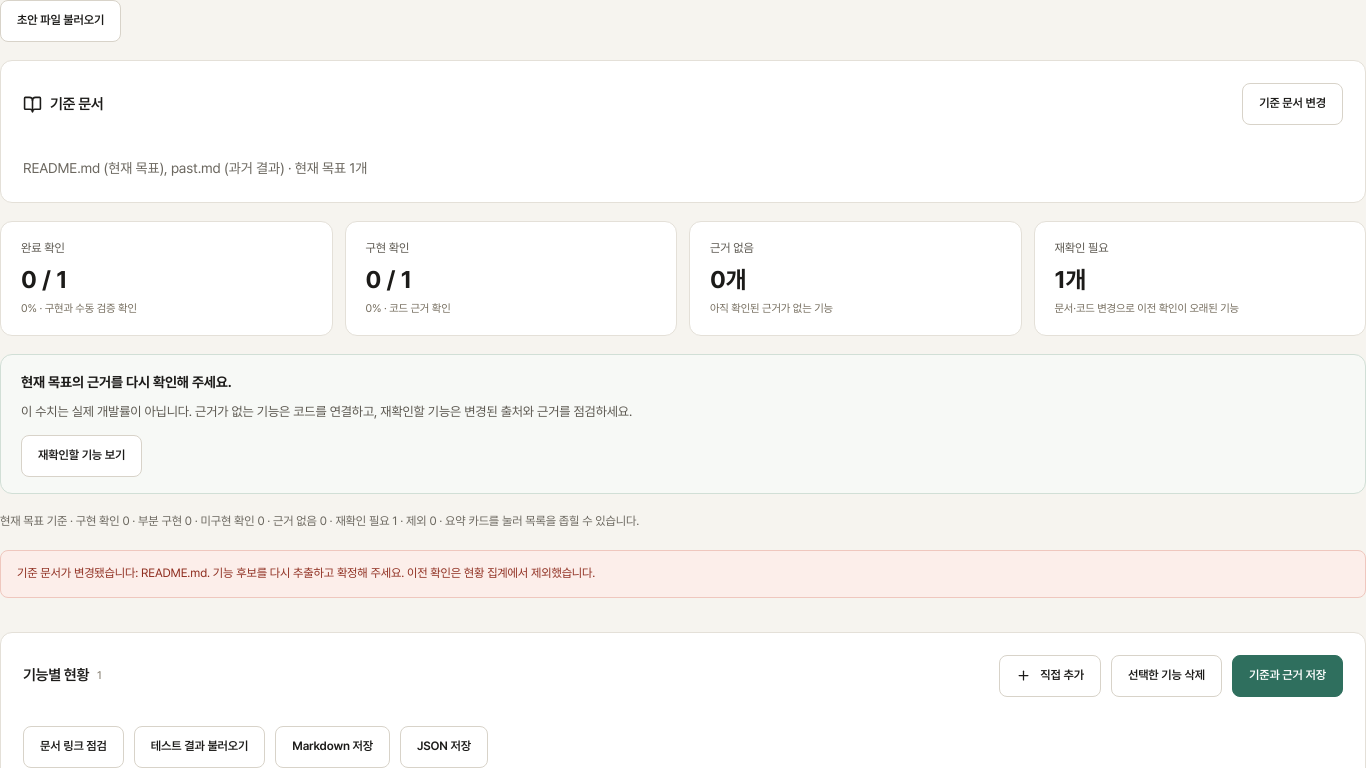
Test case: puts all items invalidated by a current document change into recheck and allows a zero-count filter
Expected: the button with aria-label "재확인 필요 1개 보기" is shown, 1034,221 -> 1365,336
Click the button with aria-label "근거 없음 0개 보기" at (732, 248), box 689,221 -> 1022,336
(page scrolled)
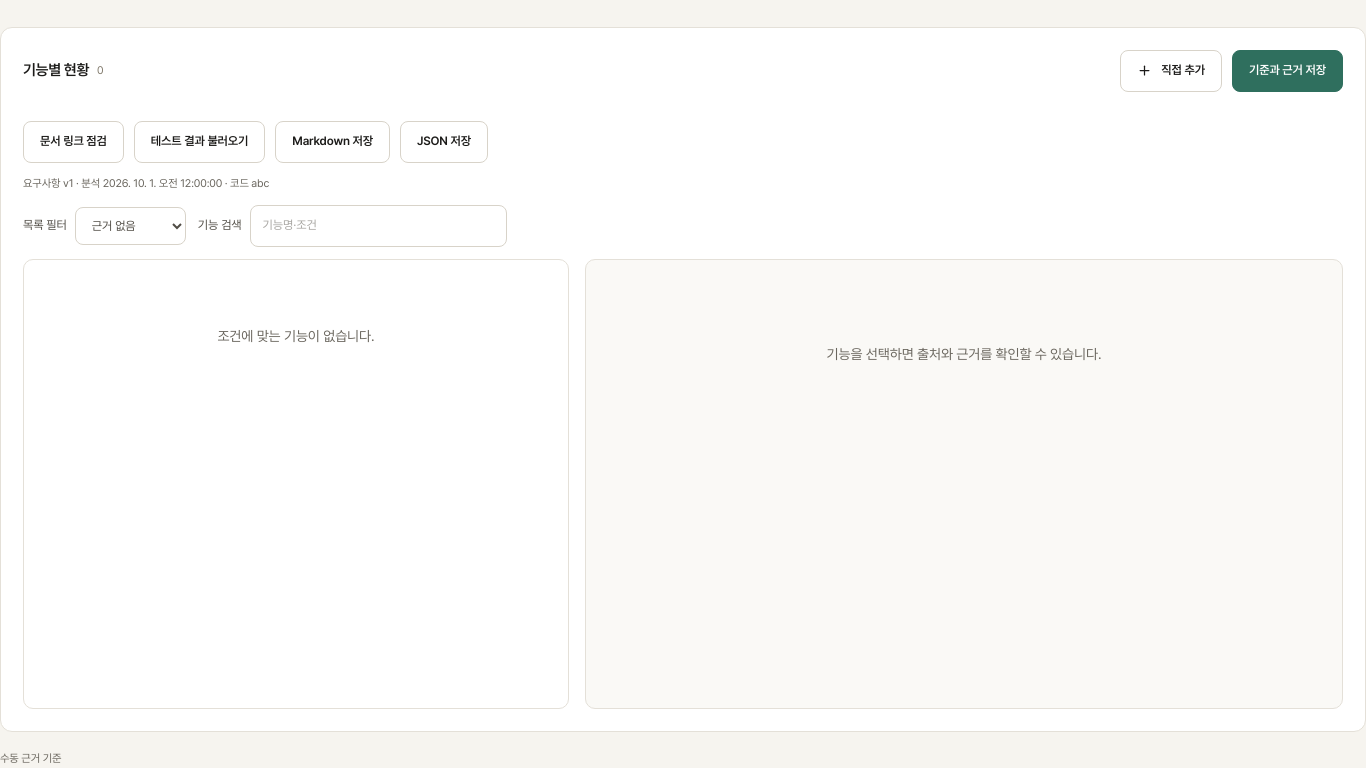
Now the element named "기능 목록" reads "조건에 맞는 기능이 없습니다.", box 217,328 -> 374,344
